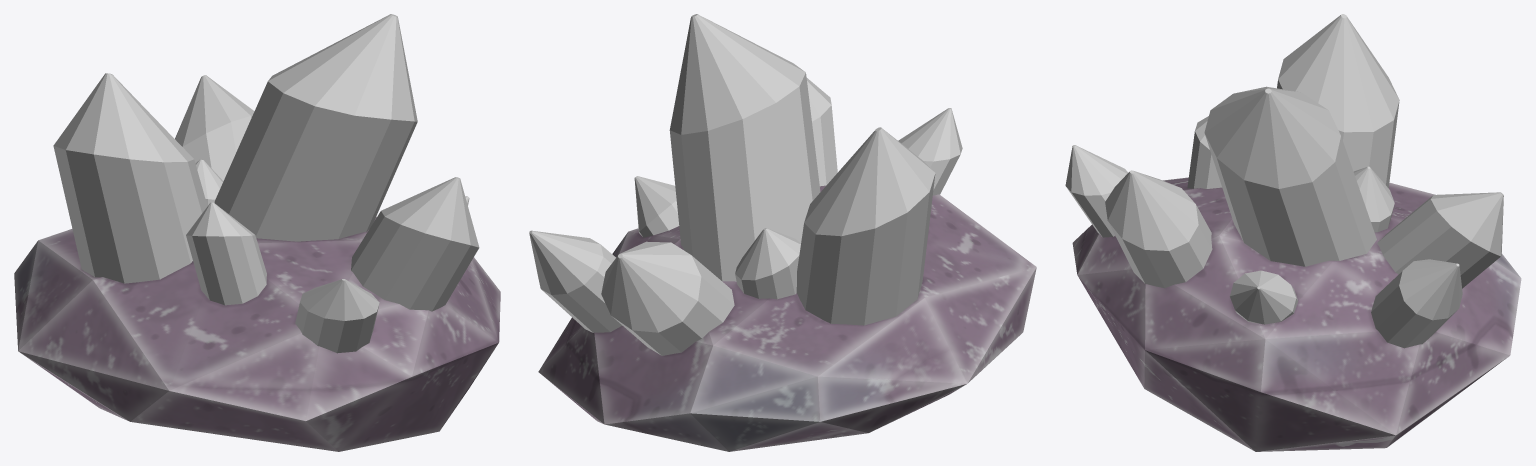
File: amethyst.fbx
3 renders of one model, left to right at view 1: azimuth 30°, elevation 25°; view 2: azimuth 150°, elevation 25°; view 3: azimuth 270°, elevation 25°, orthographic. The views are drawn at different scales.
Parts seen in each view (by area): view 1: Cylinder.006; view 2: Cylinder.006; view 3: Cylinder.006.
Boxes of the visible parts, x1=… form: Cylinder.006: x1=14, y1=14, x2=500, y2=451; Cylinder.006: x1=529, y1=14, x2=1036, y2=451; Cylinder.006: x1=1065, y1=14, x2=1521, y2=451.
Size of the model in its own units: 42.12 by 36.66 by 43.99.
